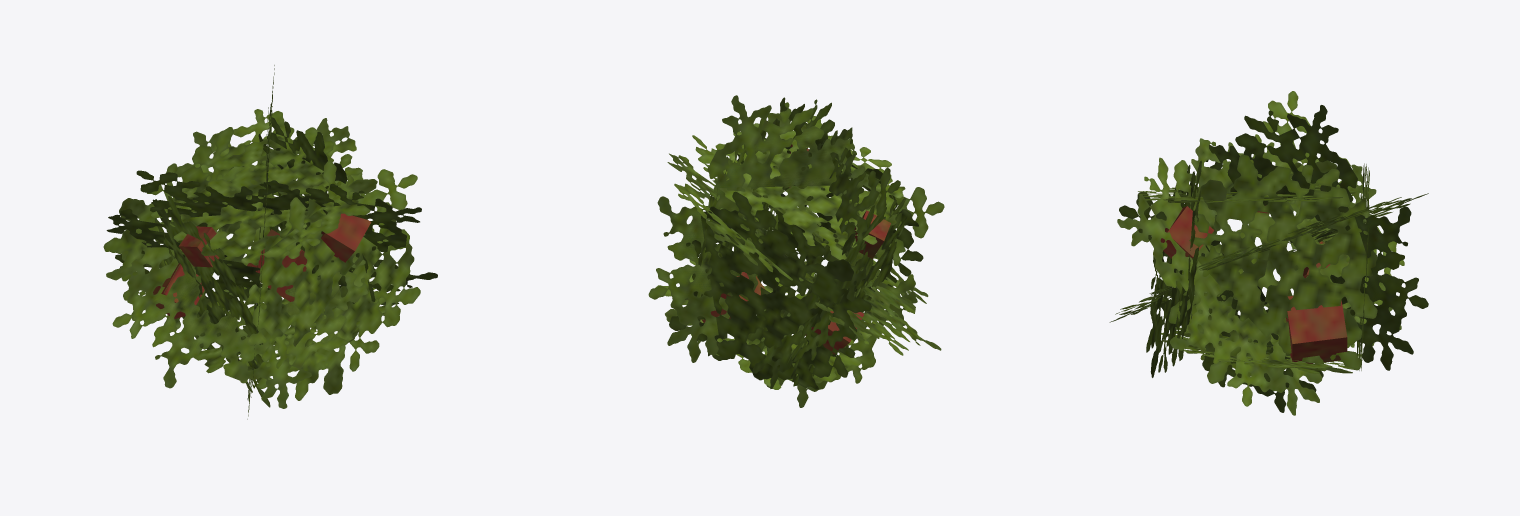
The model's file is apple_leaves.obj.
The picture shows the model from 3 angles, left to right: view 1: azimuth 30°, elevation 25°; view 2: azimuth 150°, elevation 25°; view 3: azimuth 270°, elevation 25°; orthographic projection. The views are drawn at different scales.
Visible parts, largest first — view 1: east, bottom, west, north, top, cube, south; view 2: south, top, east, west, north, bottom, cube; view 3: west, south, east, cube, bottom, north, top.
Boxes of the visible parts, box(x1,y1,x2,y2) form: east: box(106, 109, 417, 408); bottom: box(245, 160, 420, 400); west: box(106, 117, 437, 315); north: box(151, 127, 377, 265); top: box(103, 127, 280, 329); cube: box(153, 213, 371, 319); south: box(193, 65, 393, 419); south: box(648, 95, 944, 407); top: box(669, 191, 871, 389); east: box(667, 135, 941, 387); west: box(696, 97, 900, 388); north: box(698, 113, 905, 259); bottom: box(737, 108, 923, 291); cube: box(701, 144, 890, 354); west: box(1117, 91, 1404, 415); south: box(1119, 105, 1428, 412); east: box(1109, 143, 1428, 383); cube: box(1160, 205, 1348, 363); bottom: box(1146, 160, 1201, 377); north: box(1137, 183, 1361, 202); top: box(1357, 163, 1369, 370).
Size of the model in its own units: 2.27 by 2.25 by 1.98.
